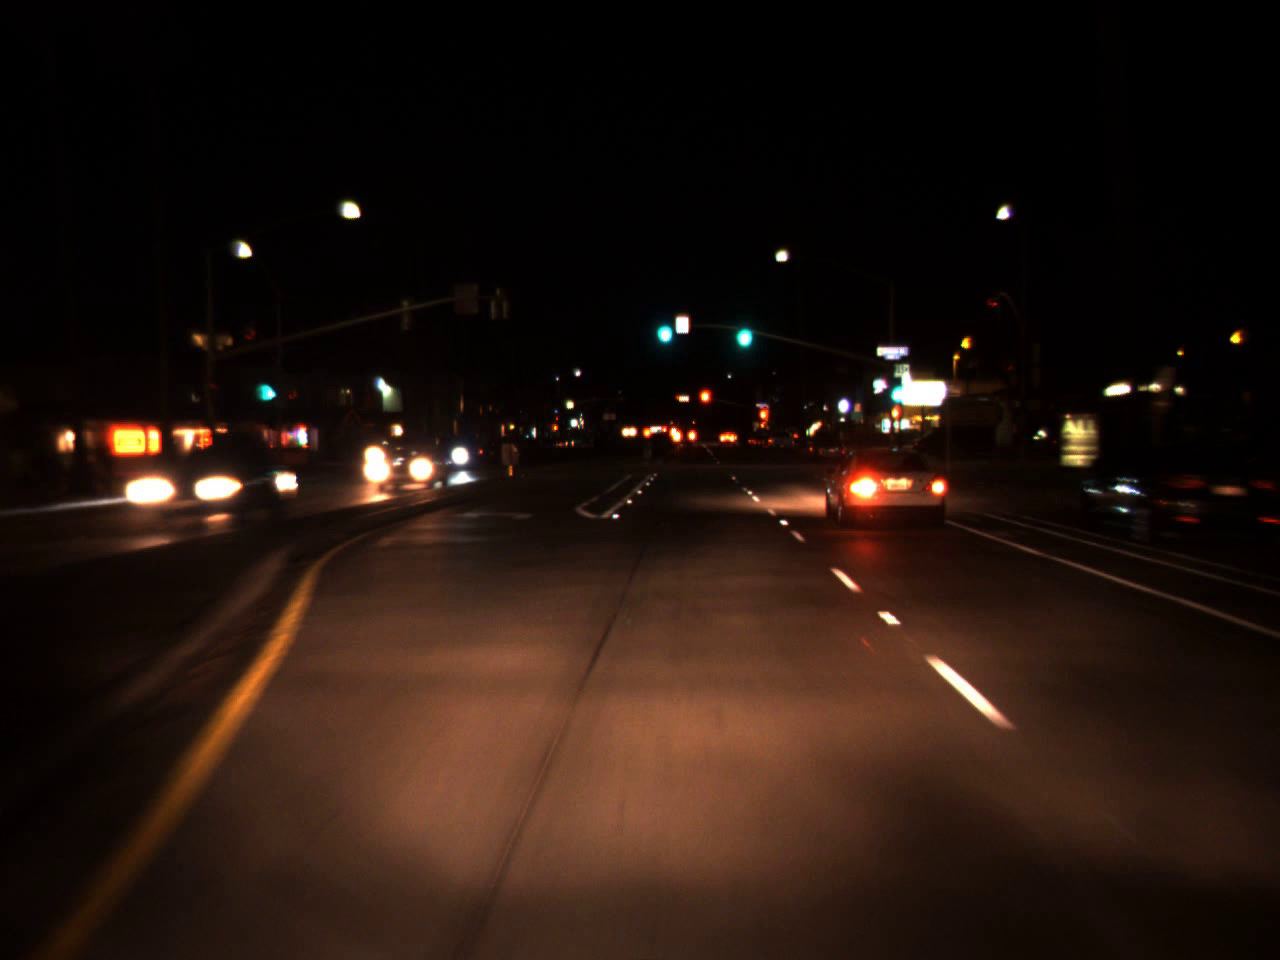go: (651, 304, 676, 349), (886, 367, 909, 406), (735, 319, 753, 349), (265, 378, 275, 402)
stop: (698, 387, 711, 419), (758, 405, 770, 437)
